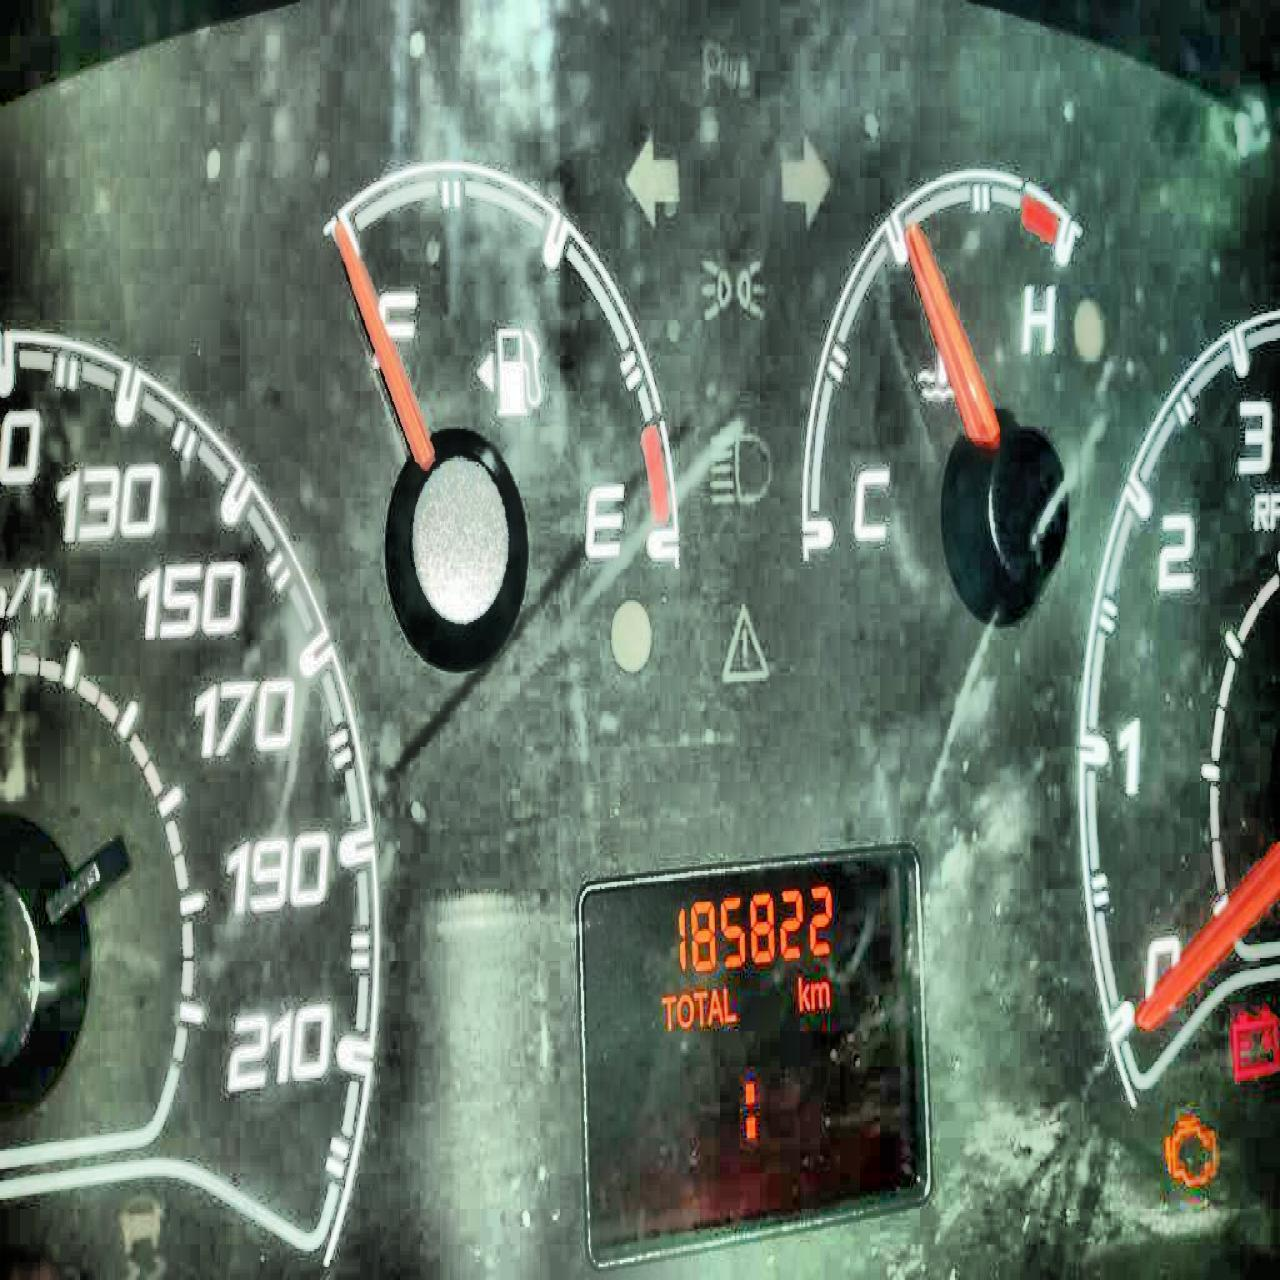1: (675, 900, 689, 975)
2: (777, 885, 803, 962), (809, 884, 832, 958)
5: (719, 893, 745, 971)
8: (690, 893, 716, 974), (749, 886, 775, 965)
X: (740, 1069, 756, 1144), (658, 987, 675, 1032), (676, 989, 693, 1032), (810, 978, 830, 1012), (722, 982, 737, 1022), (708, 985, 722, 1027), (693, 987, 708, 1024), (796, 971, 809, 1013)
odometer: (572, 833, 933, 1268)
